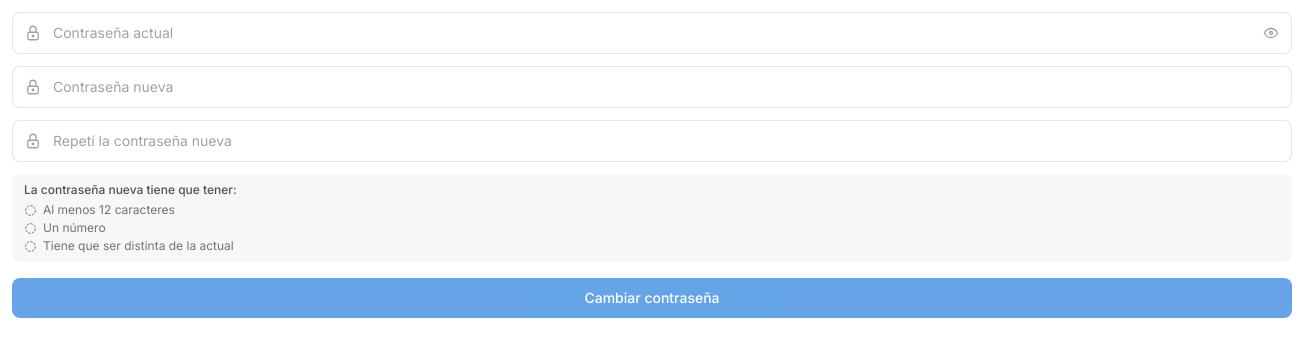
Test: ChangePasswordForm › no envía si las contraseñas nuevas no coinciden
Type "actual-123" into the password field labelled "Contraseña actual" at x=652, y=33, box [12,12,1292,54]
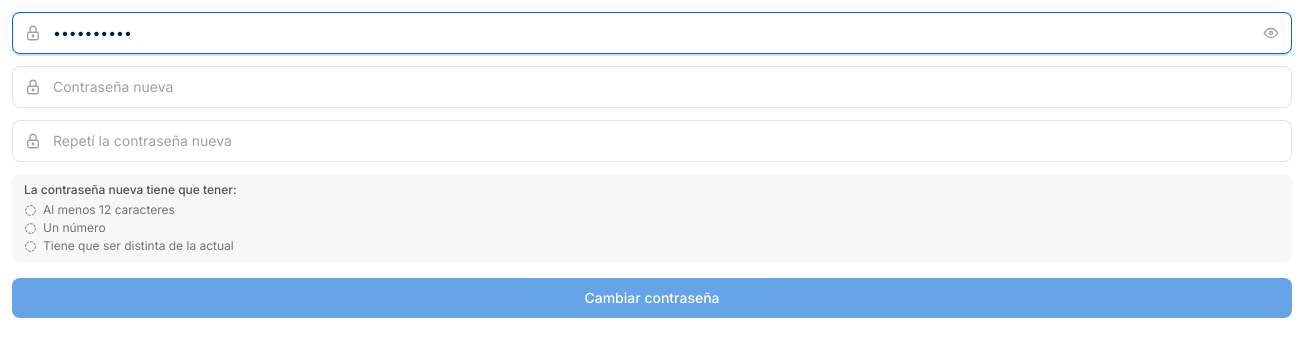
Type "una clave nueva 2026" into the password field labelled "Contraseña nueva" at x=652, y=87, box [12,66,1292,108]
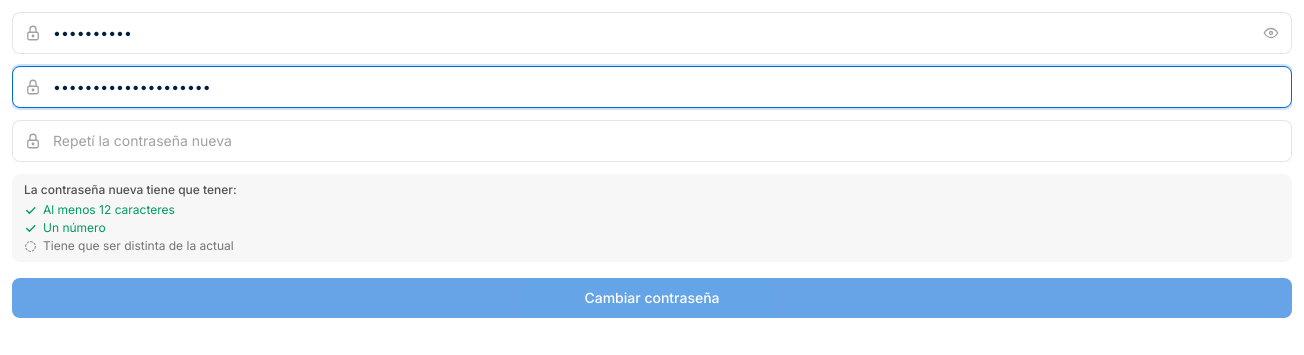
Type "otra cosa 2026 distinta" into the password field labelled "Repetí la contraseña nueva" at x=652, y=141, box [12,120,1292,162]
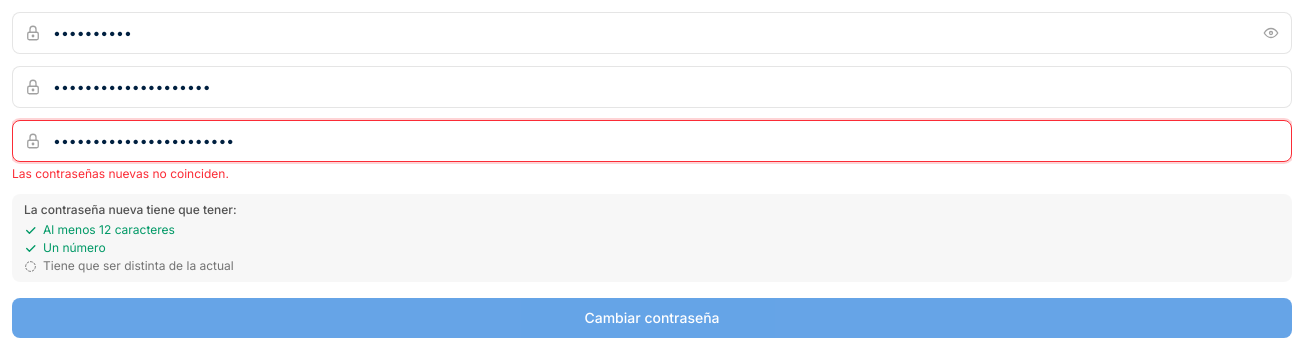
Expected: the button "Cambiar contraseña" is disabled, [12,298,1292,338]
Result: the text "Las contraseñas nuevas no coinciden." is shown at [12,166,229,181]
